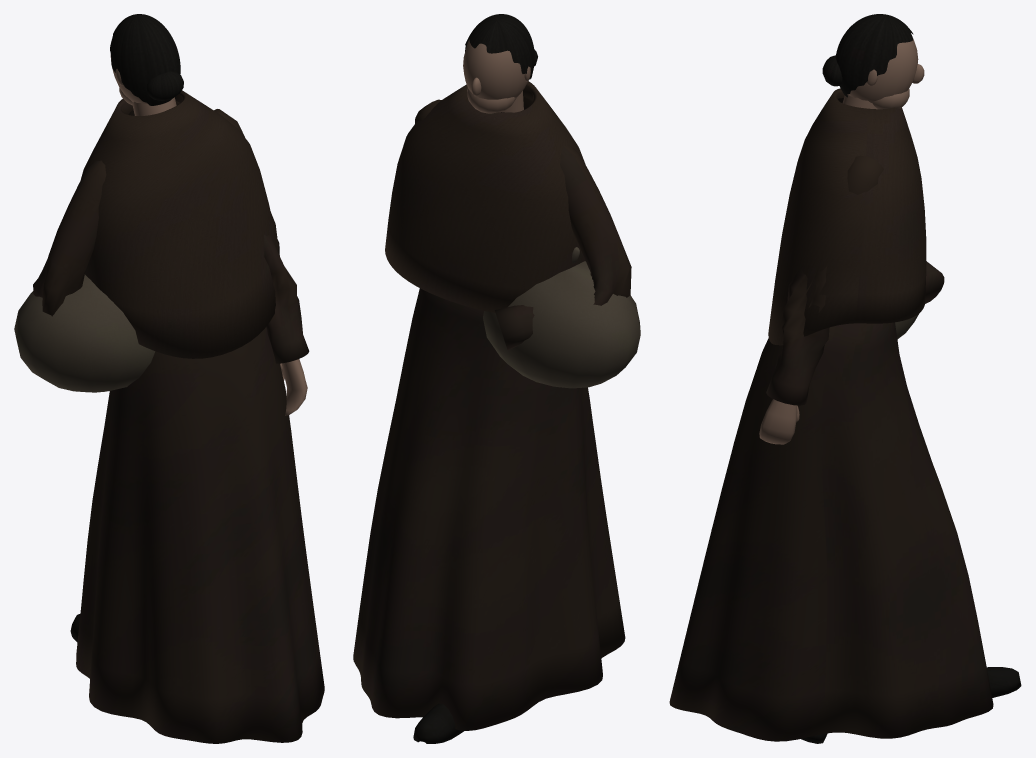
File: walker-woman-bundle.glb
3 renders of one model, left to right at view 1: azimuth 30°, elevation 25°; view 2: azimuth 150°, elevation 25°; view 3: azimuth 270°, elevation 25°, orthographic. The views are drawn at different scales.
Parts seen in each view (by area): view 1: walker-woman-bundle-body; view 2: walker-woman-bundle-body; view 3: walker-woman-bundle-body.
Boxes of the visible parts, x1,y1,x2,y2 form: walker-woman-bundle-body: (14,14,324,743); walker-woman-bundle-body: (353,14,640,743); walker-woman-bundle-body: (669,14,1021,743).
Size of the model in its own units: 0.6343 by 1.59 by 0.734.
Materials: 8 (6 with a texture image).
